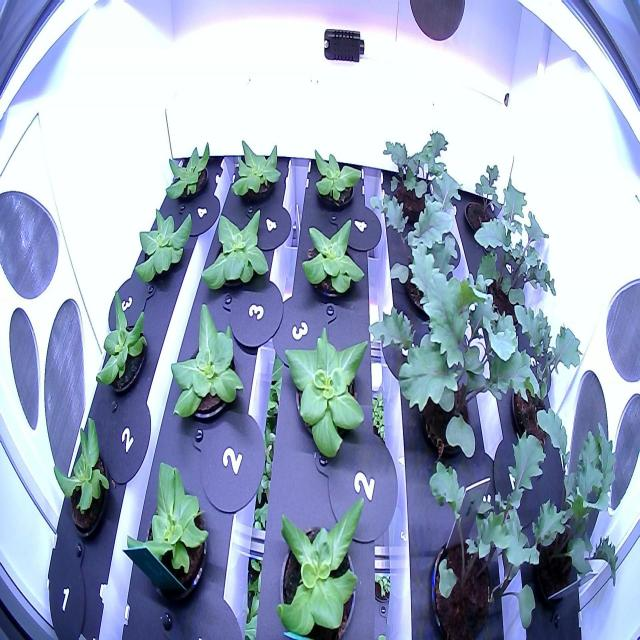young: (121, 458, 220, 615), (269, 490, 371, 640), (281, 318, 375, 468), (164, 293, 258, 428), (48, 408, 117, 545), (199, 202, 275, 304), (298, 209, 370, 308), (90, 287, 154, 398), (131, 194, 198, 290), (305, 137, 368, 214), (228, 134, 284, 217), (162, 132, 218, 208)
